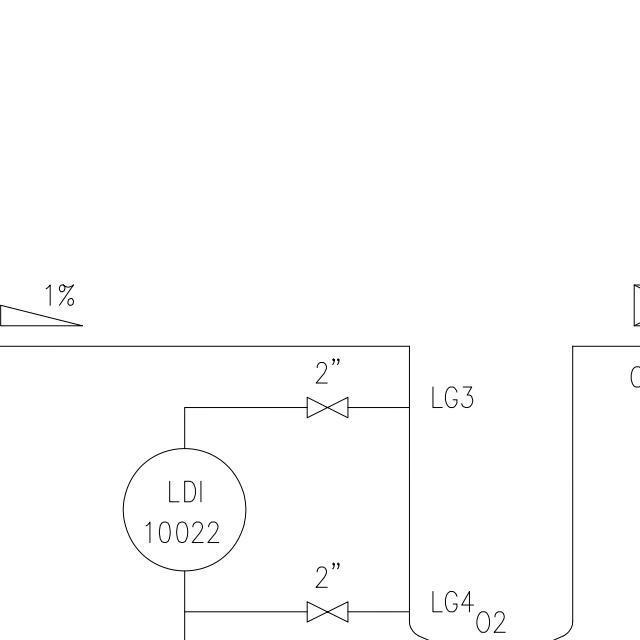GV: (300, 391, 354, 421), (302, 596, 353, 627)
